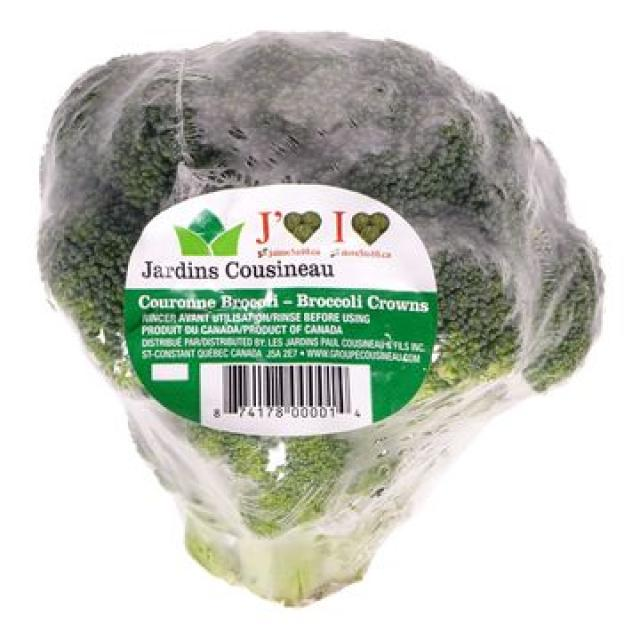broccoli: (40, 32, 602, 604)
